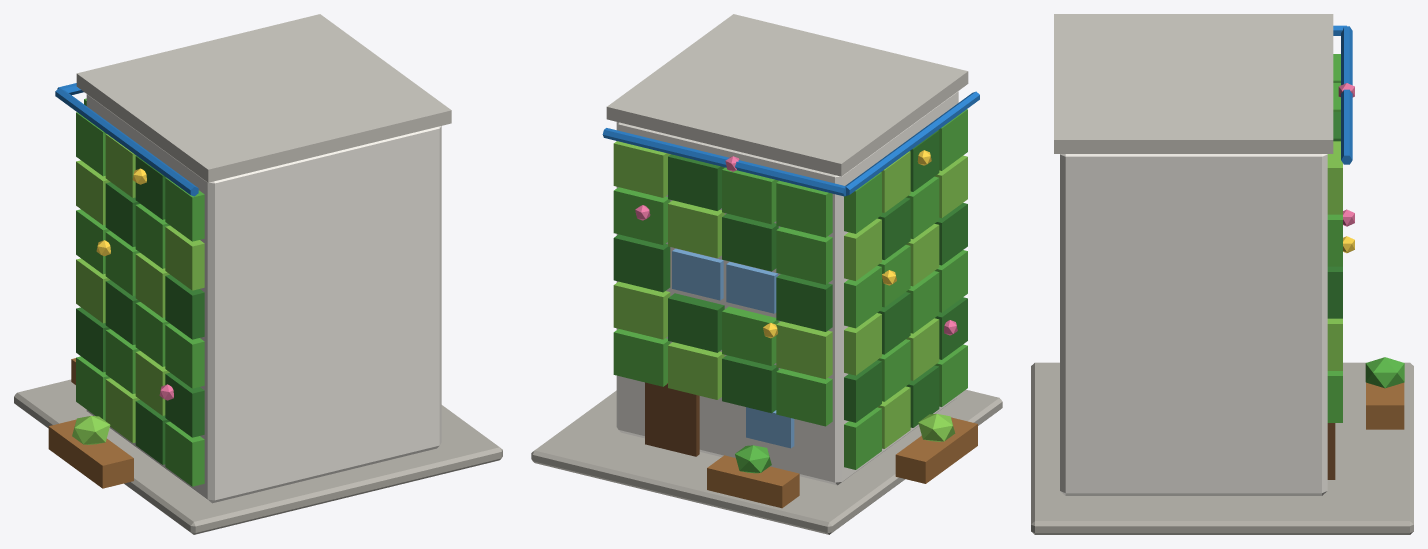
The model's file is green_wall.glb.
The picture shows the model from 3 angles, left to right: view 1: azimuth 30°, elevation 25°; view 2: azimuth 150°, elevation 25°; view 3: azimuth 270°, elevation 25°; orthographic projection. The views are drawn at different scales.
Parts seen in each view (by area): view 1: corpo; view 2: corpo; view 3: corpo.
Part boxes in pixels (bbox=[...]): corpo: bbox=[14, 14, 502, 534]; corpo: bbox=[531, 14, 1002, 534]; corpo: bbox=[1031, 14, 1413, 534].
Bounding box in the file's own units: 2.21 × 2.16 × 2.
